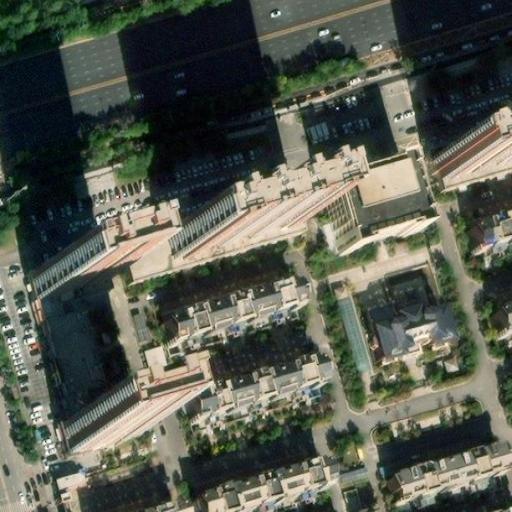building: (99, 188, 315, 283), (40, 274, 120, 420), (171, 186, 307, 255), (197, 350, 332, 419), (320, 164, 415, 253), (175, 277, 310, 339), (185, 459, 317, 512), (389, 450, 505, 501), (375, 302, 455, 358), (434, 122, 512, 177), (63, 401, 144, 449), (331, 288, 372, 373), (33, 249, 106, 293), (442, 155, 512, 189), (460, 212, 512, 251), (391, 277, 428, 309), (86, 500, 183, 512), (482, 299, 512, 334), (52, 468, 87, 491), (468, 126, 496, 141), (432, 137, 459, 151), (508, 120, 512, 129)
